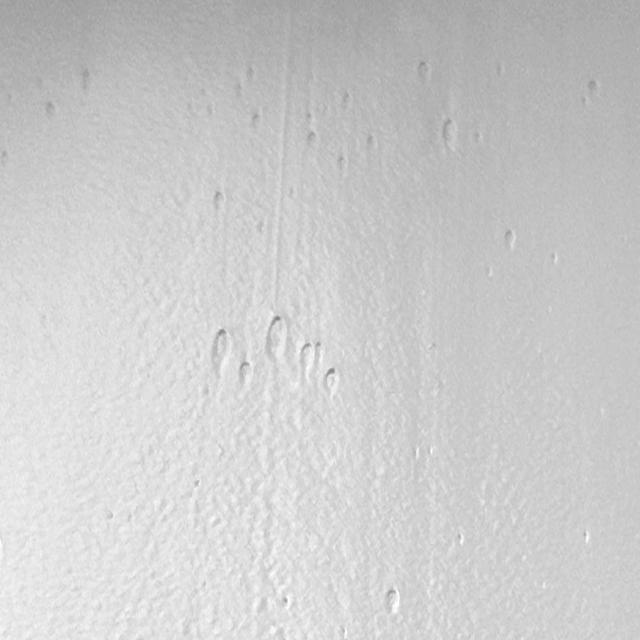pin holes: (262, 316, 288, 357), (208, 329, 233, 370), (438, 116, 460, 150), (381, 587, 404, 616), (297, 342, 318, 371), (414, 59, 435, 87), (322, 368, 341, 397), (236, 362, 254, 392), (40, 100, 60, 126), (76, 69, 96, 95), (500, 228, 519, 254), (584, 76, 604, 100), (212, 188, 228, 214), (338, 90, 355, 112), (242, 62, 259, 84), (248, 111, 264, 134), (335, 154, 350, 177), (305, 129, 319, 150), (365, 133, 379, 152), (278, 592, 292, 610), (473, 130, 487, 146), (454, 532, 466, 550), (484, 265, 496, 283), (548, 252, 560, 269), (580, 530, 592, 547), (0, 151, 9, 167)
